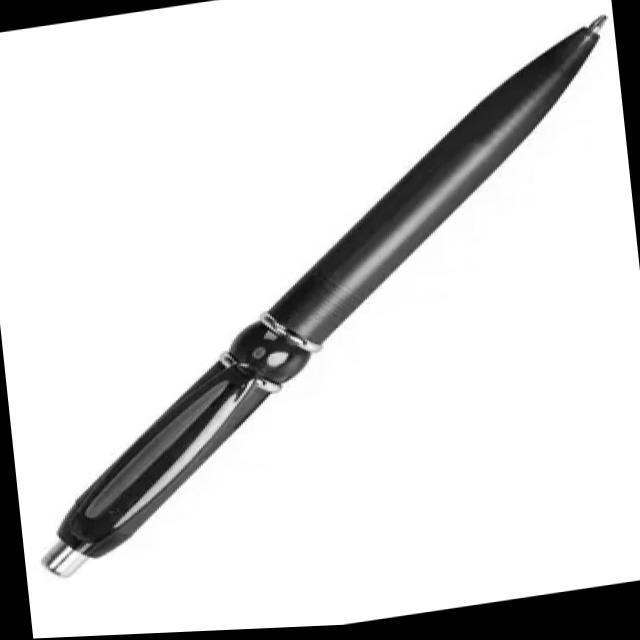pencil: (56, 0, 608, 585)
